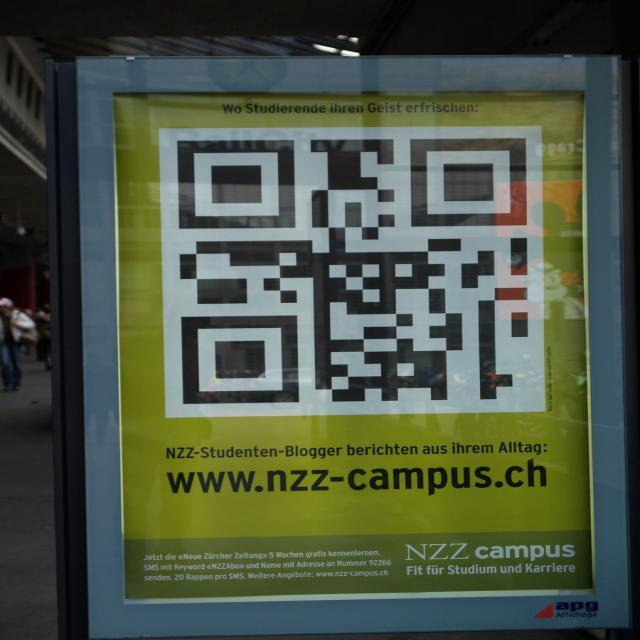qrcode: (178, 139, 527, 405)
